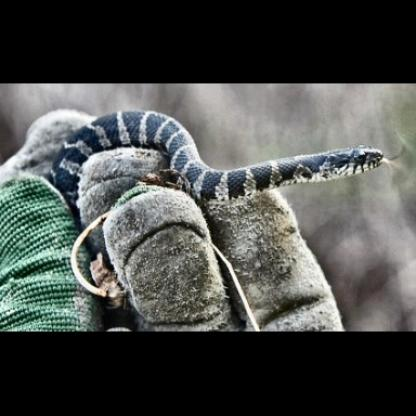Snake: (8, 104, 401, 224)
